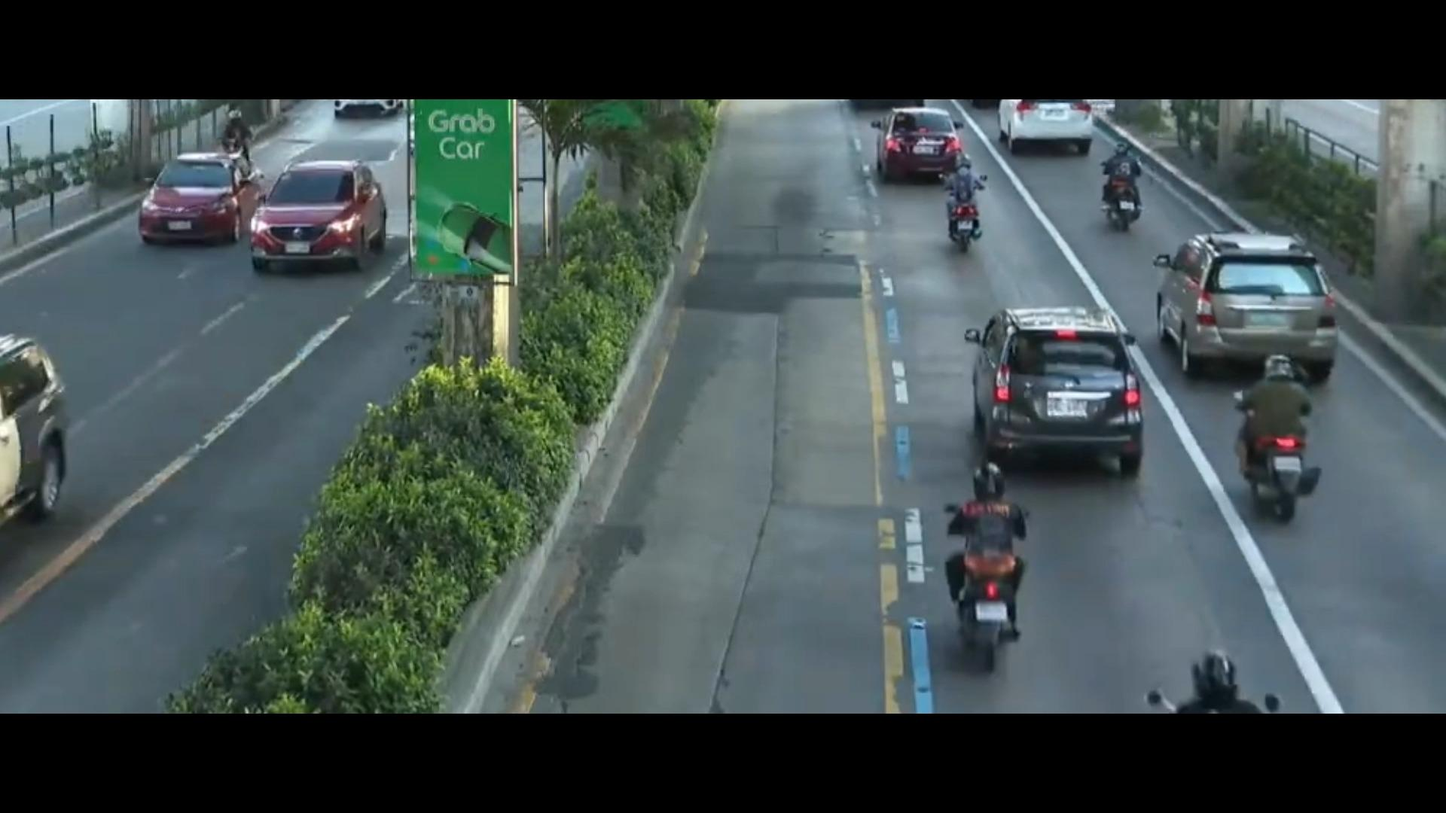Motorcycle: (906, 448, 1044, 677), (1217, 339, 1341, 534), (923, 143, 1006, 281), (1086, 134, 1171, 248), (227, 98, 273, 177)
SUV: (964, 285, 1169, 480), (1143, 206, 1354, 387)
Sedan: (238, 147, 407, 290), (115, 142, 257, 259), (861, 98, 976, 185)
